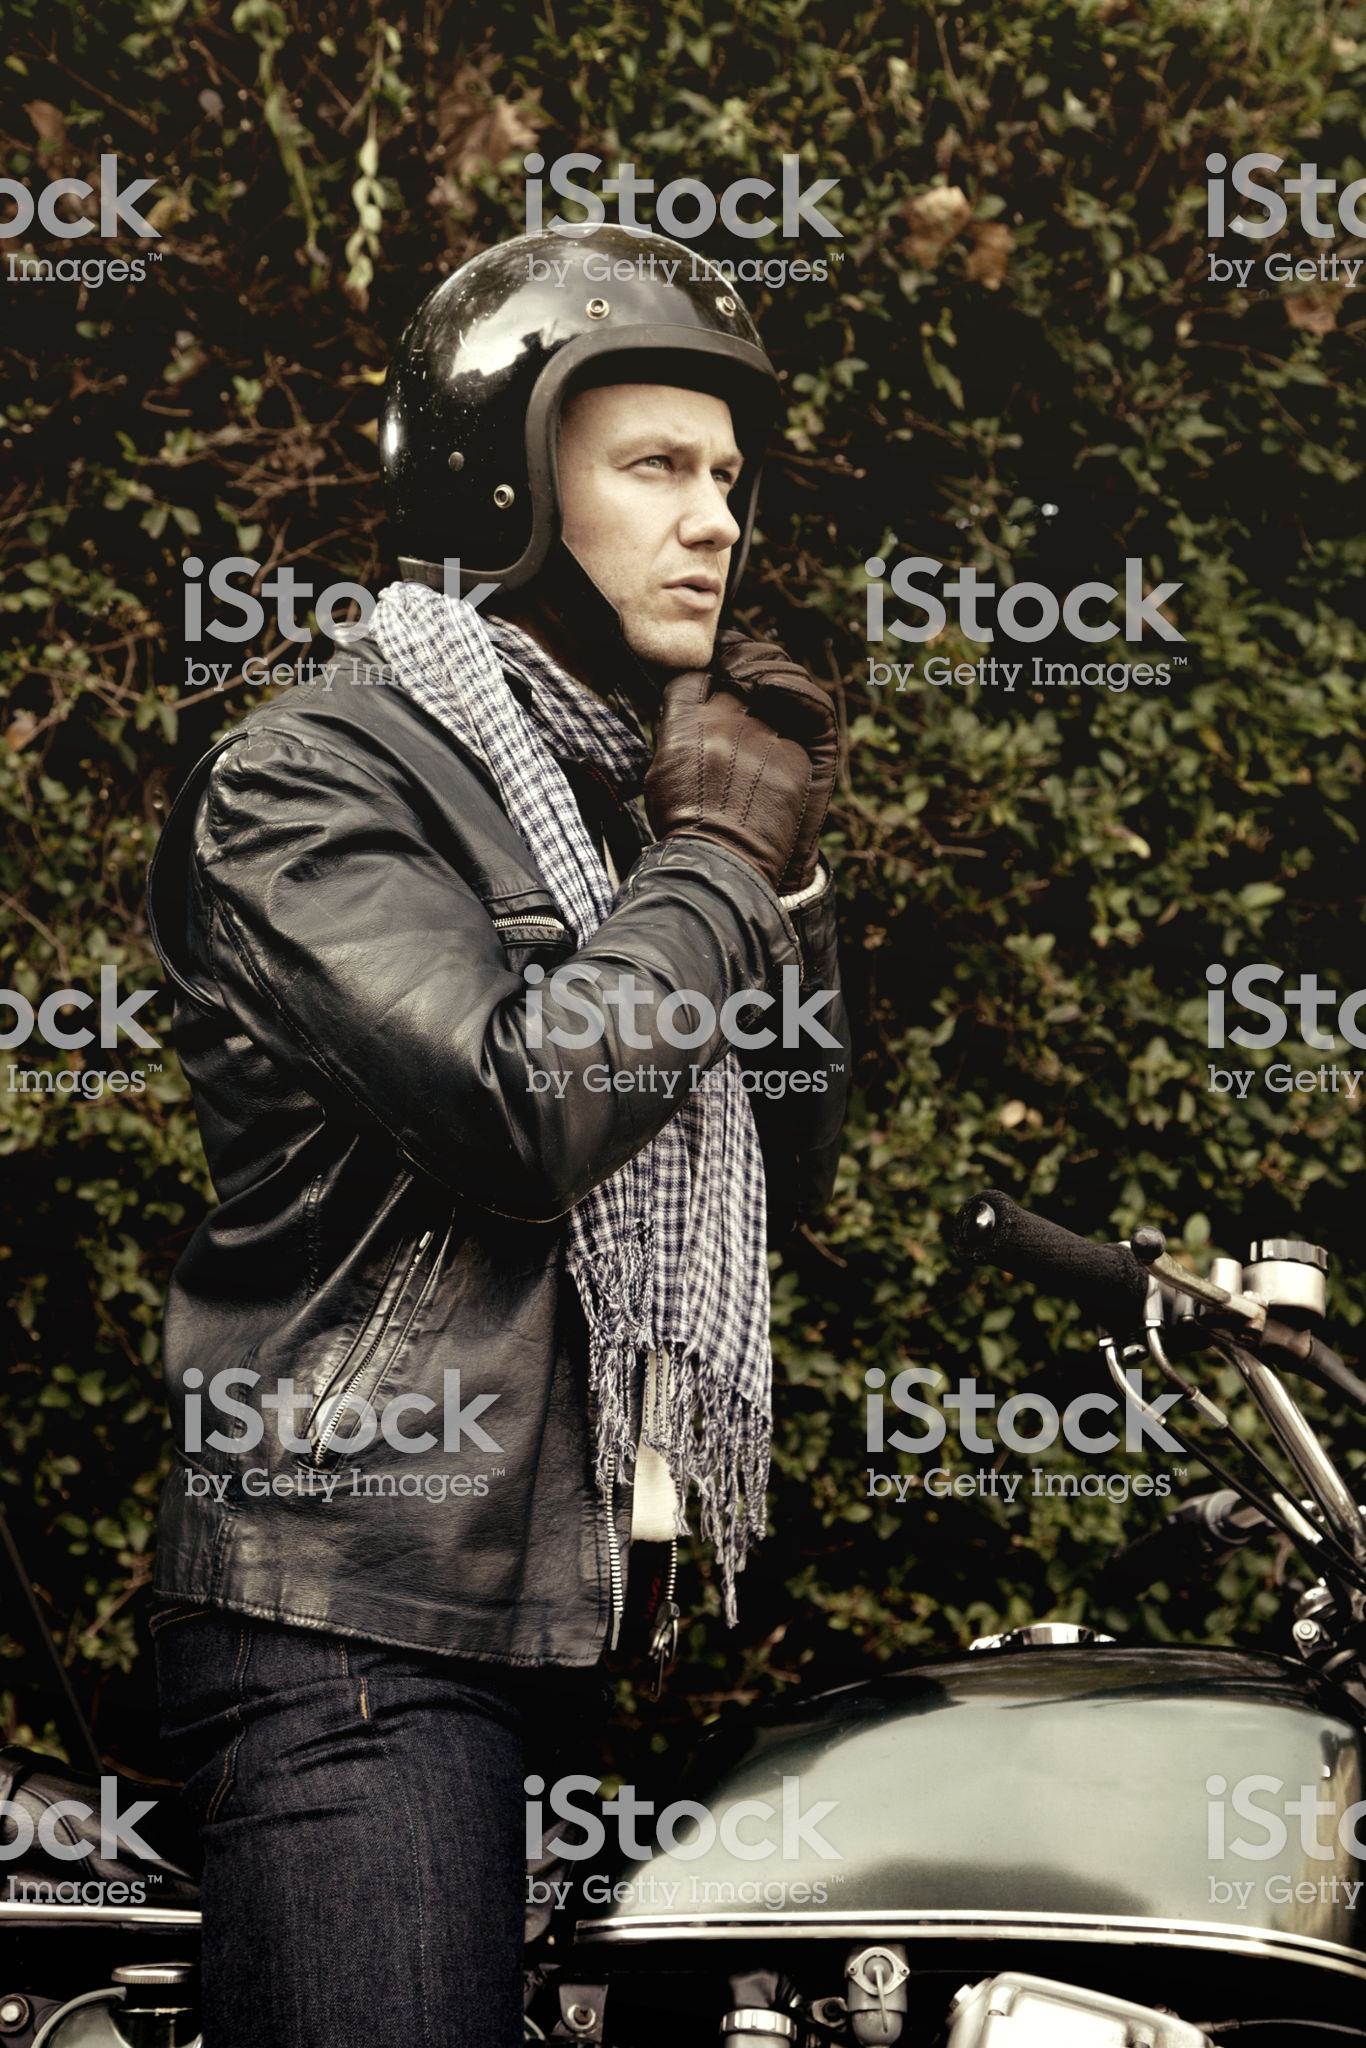helmet: (410, 197, 806, 588)
